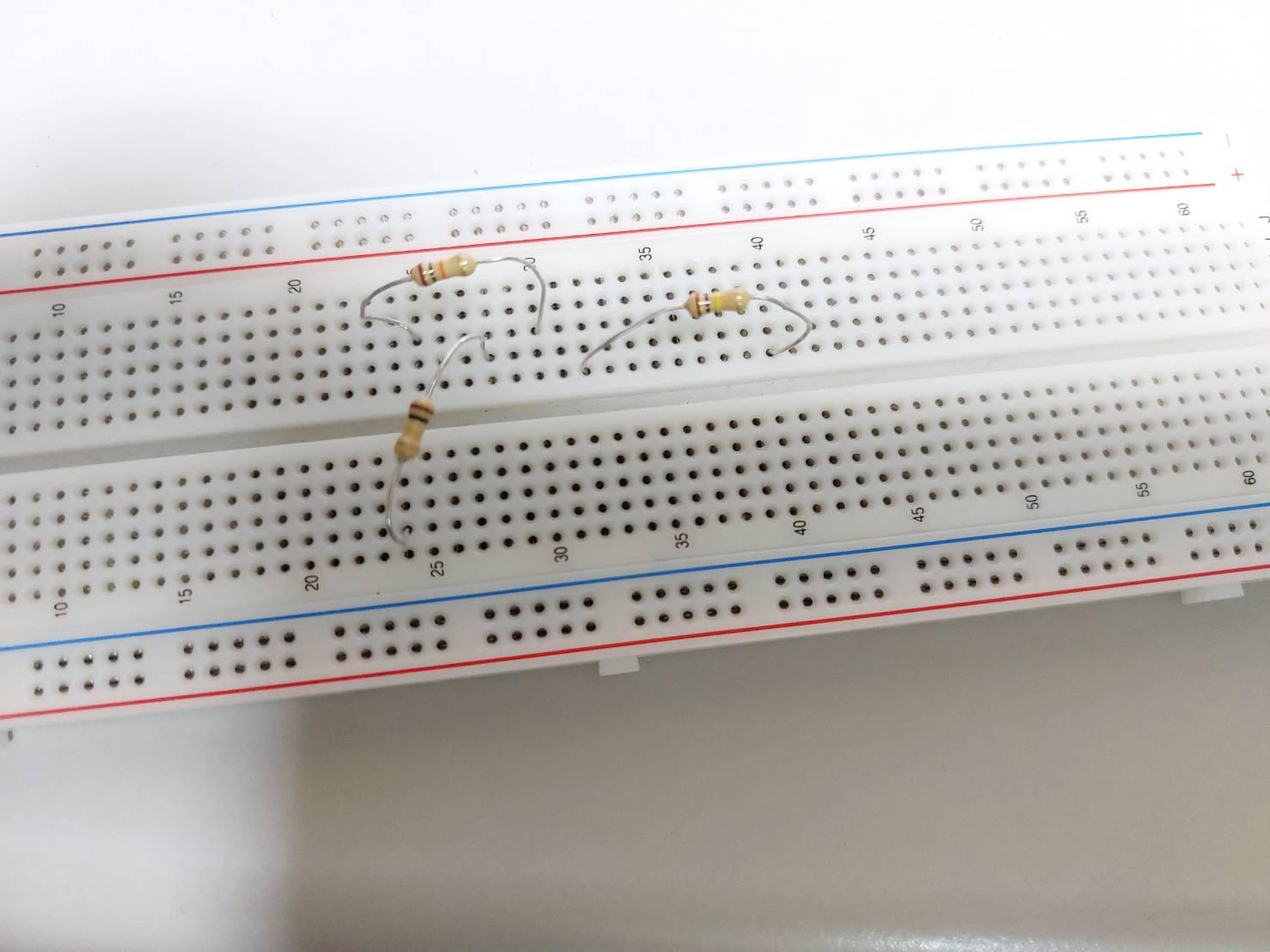resistor: (392, 396, 436, 463), (407, 253, 479, 286), (685, 289, 753, 317)
